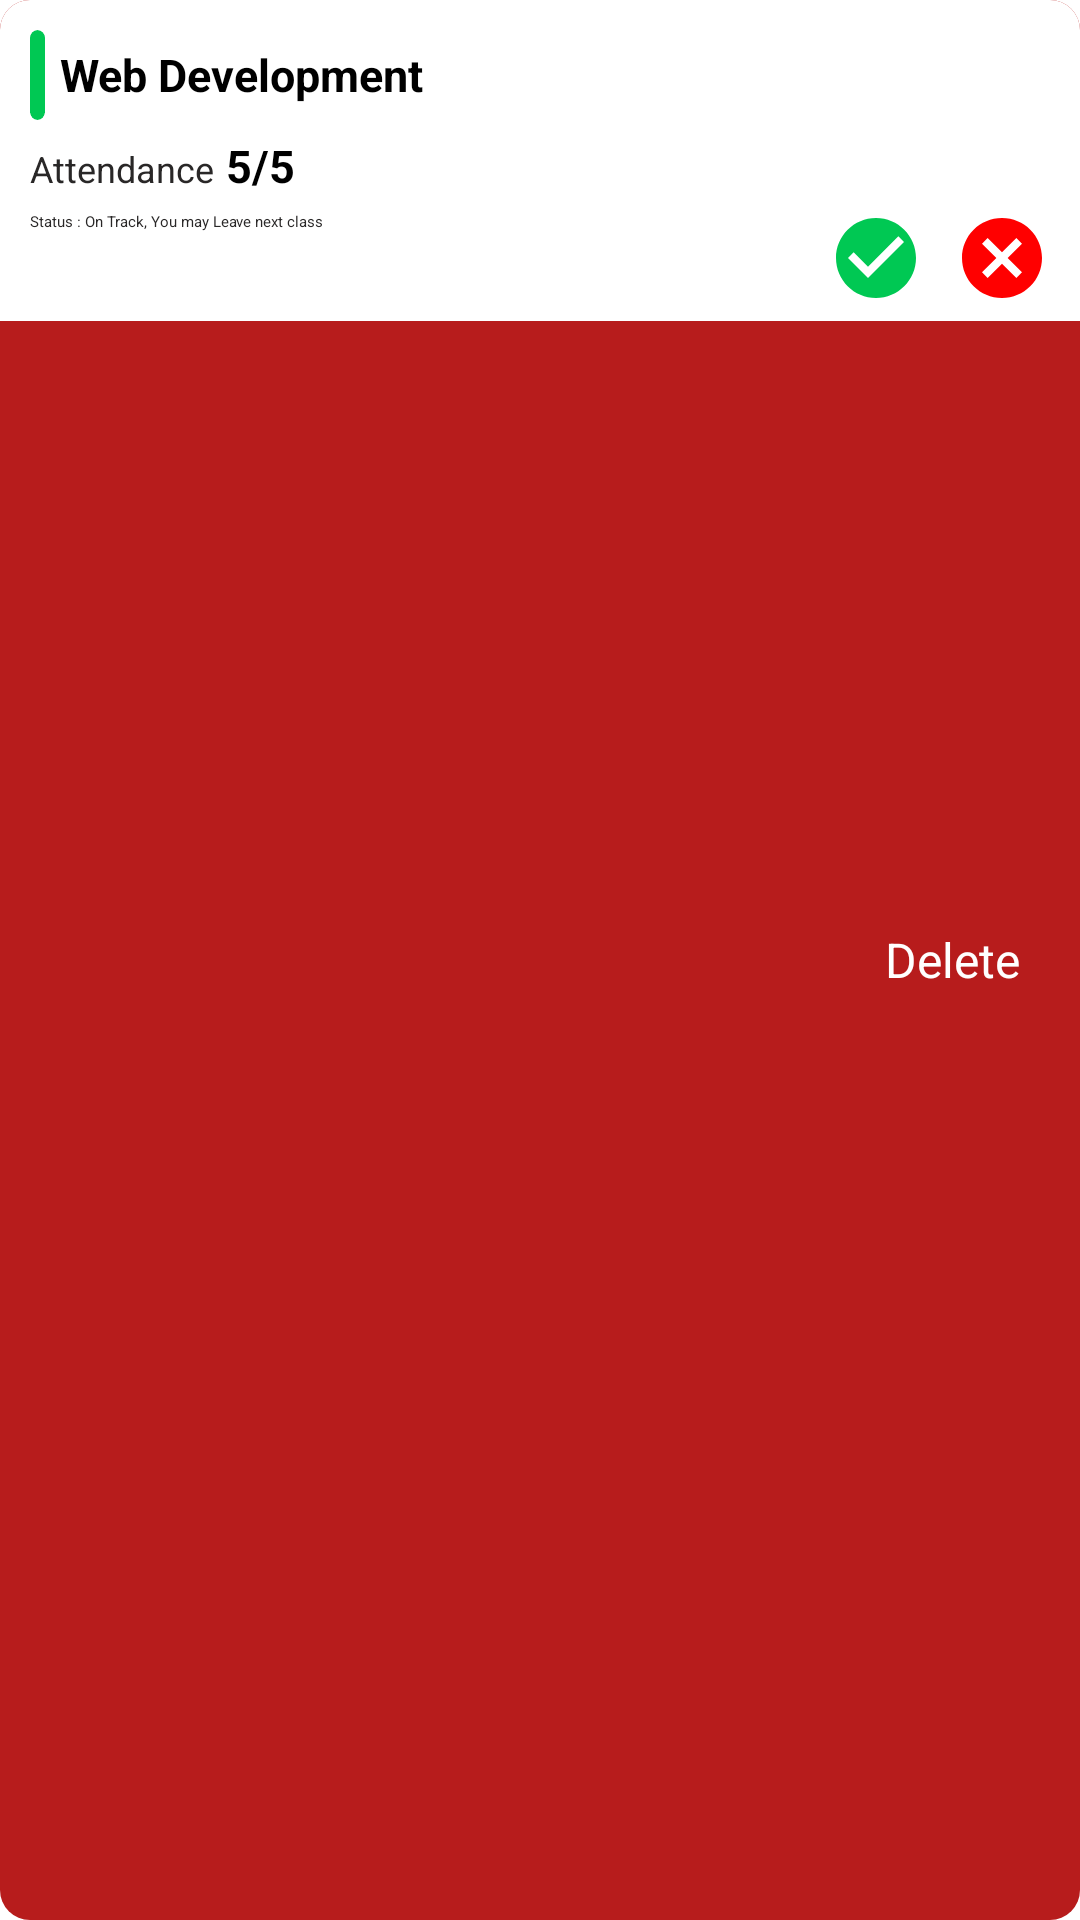

Icon bounding boxes for this 1080px×1920px phone screenshot, format (x1, y1, x2, y2):
cancel: (962, 218, 1042, 298)
check circle: (836, 218, 916, 298)
